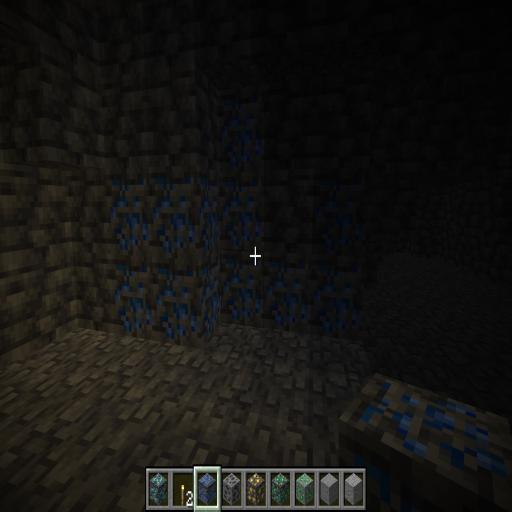lapis ore: (98, 80, 370, 346)
